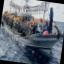fishing boat: (0, 0, 64, 51)
